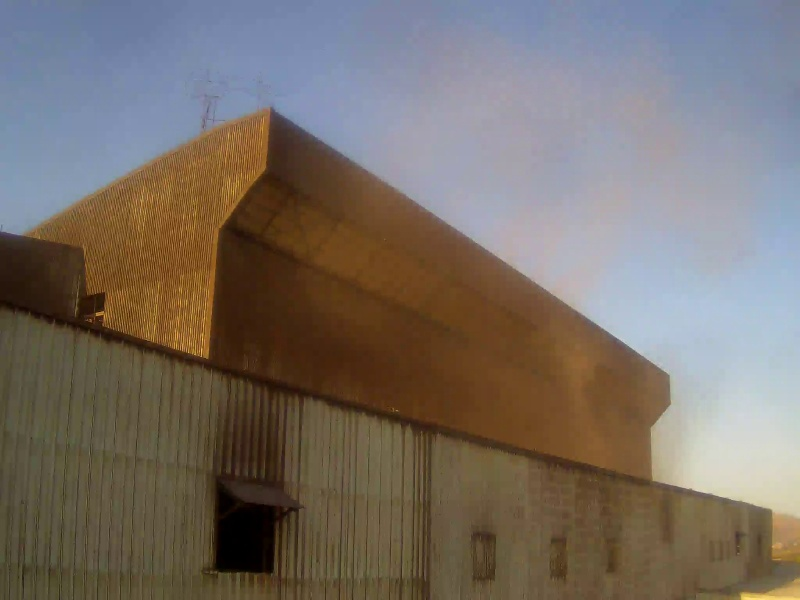bom: (12, 13, 275, 196)
pessimo: (338, 14, 704, 501)
